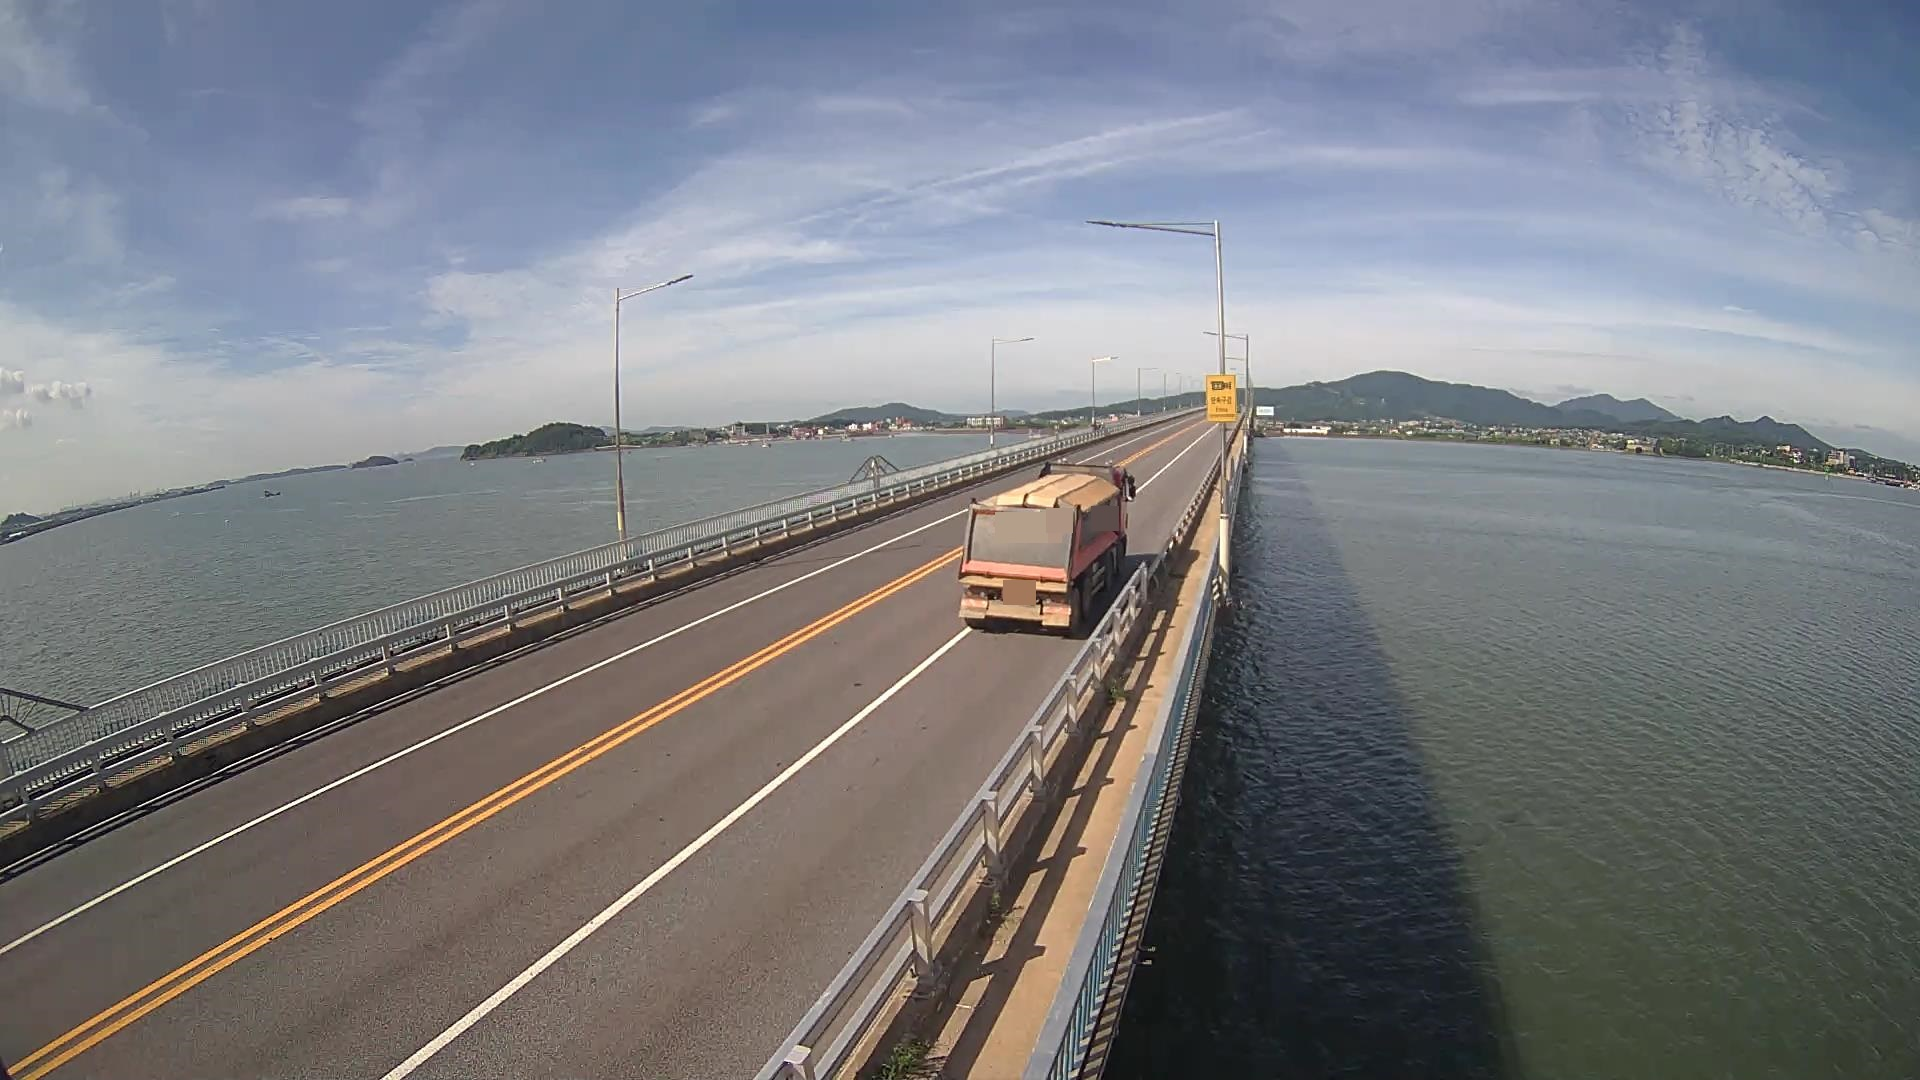정상차량: (957, 460, 1135, 629)
